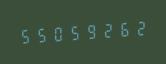five: (17, 24, 32, 47), (33, 23, 48, 46), (65, 21, 80, 44)
nine: (81, 20, 96, 43)
six: (113, 17, 128, 40)
two: (129, 16, 144, 39), (97, 19, 112, 41)
zero: (49, 22, 64, 45)
